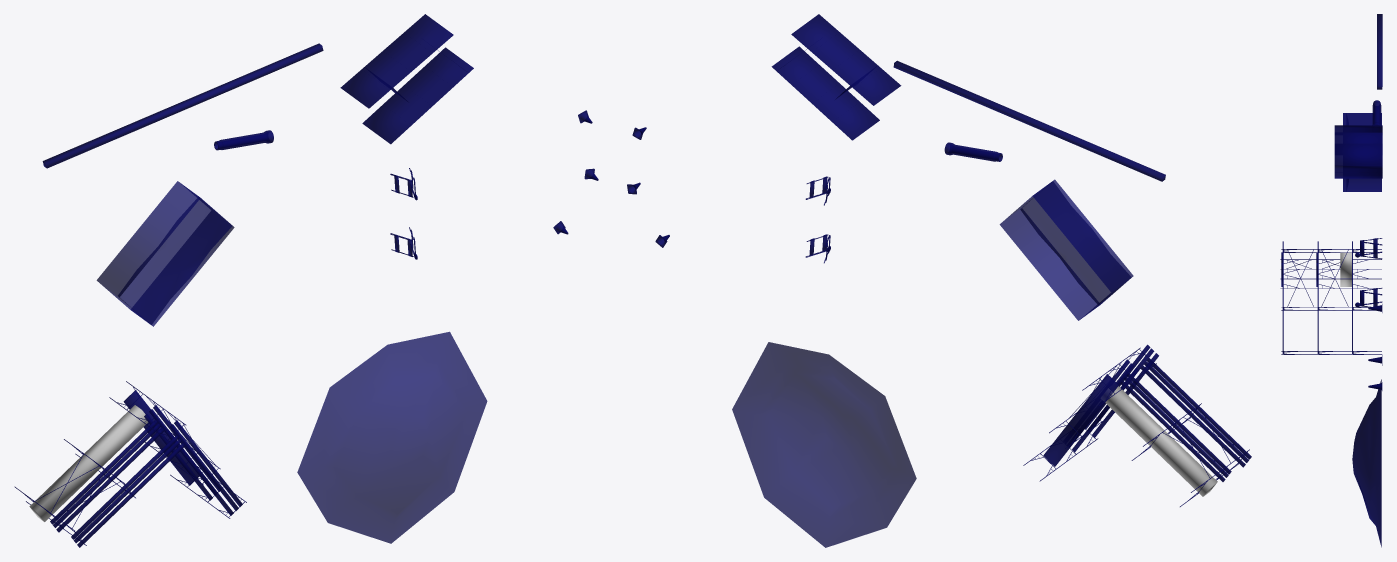
File: ConstructionObstacles2.obj
3 renders of one model, left to right at view 1: azimuth 30°, elevation 25°; view 2: azimuth 150°, elevation 25°; view 3: azimuth 270°, elevation 25°, orthographic. The views are drawn at different scales.
Bounding box in the file's own units: 28.76 × 24.54 × 5.22.
